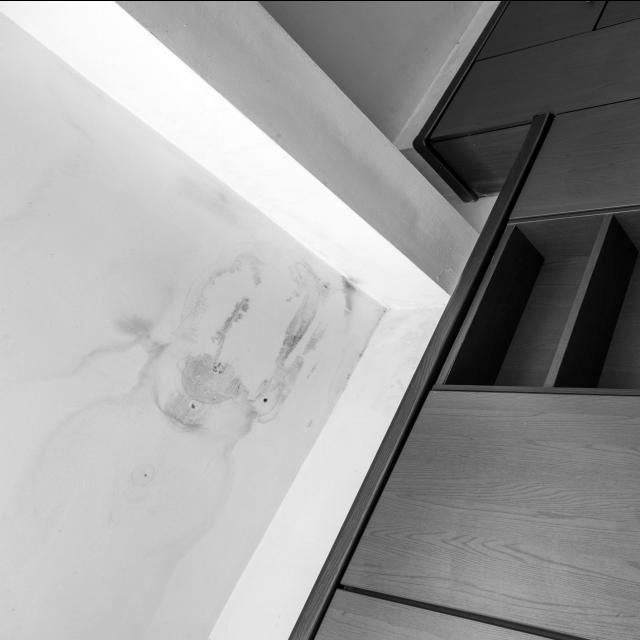pin holes: (208, 358, 228, 383), (133, 465, 152, 485), (259, 391, 274, 414), (185, 398, 197, 413)
stain marks: (108, 156, 356, 488), (281, 277, 313, 370), (180, 356, 237, 404), (218, 290, 249, 366), (152, 390, 205, 434), (115, 310, 158, 349), (345, 272, 354, 322)
